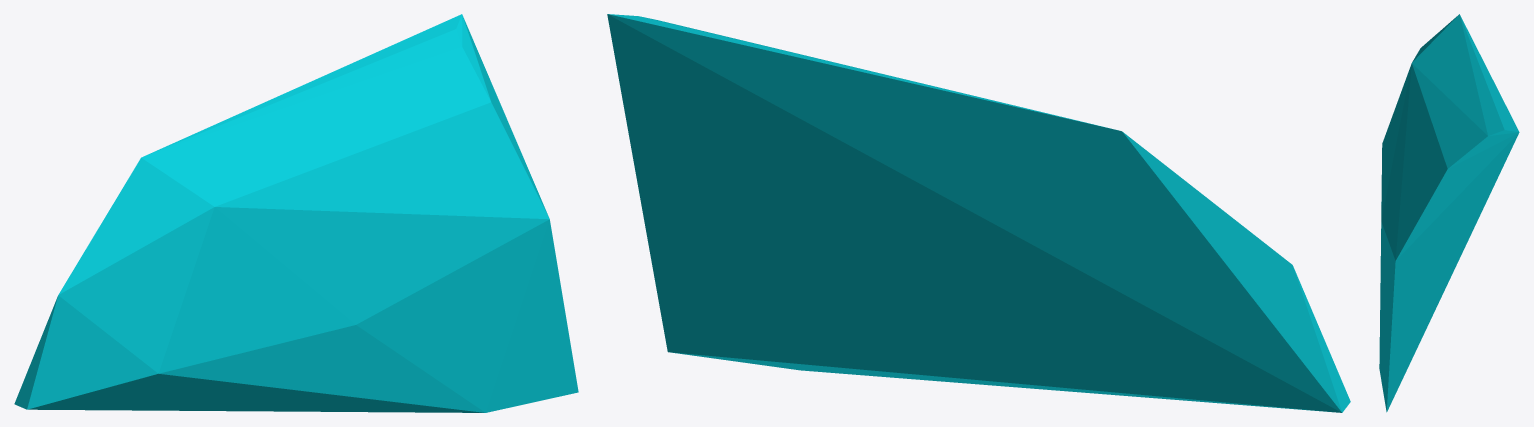
Rendered from arm-L4_convex_piece_010.obj.
3 renders of one model, left to right at view 1: azimuth 30°, elevation 25°; view 2: azimuth 150°, elevation 25°; view 3: azimuth 270°, elevation 25°, orthographic. The views are drawn at different scales.
Bounding box in the file's own units: 0.0711 × 0.0411 × 0.0196.
